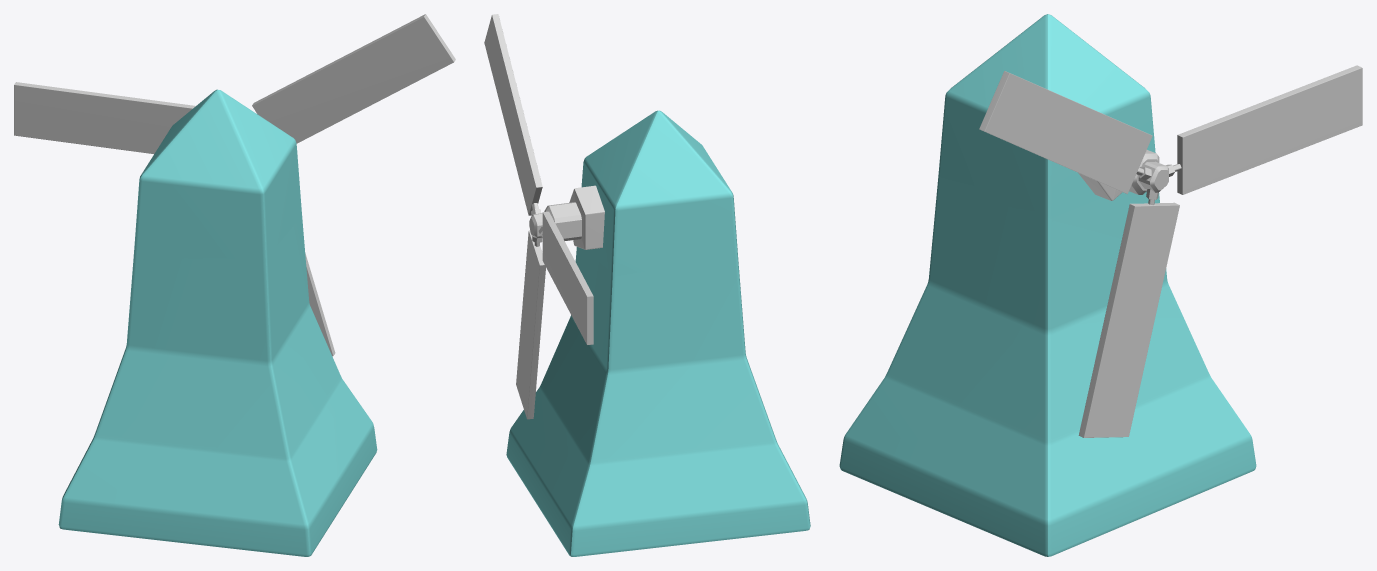
Rendered from wind.fbx.
The picture shows the model from 3 angles, left to right: view 1: azimuth 30°, elevation 25°; view 2: azimuth 150°, elevation 25°; view 3: azimuth 270°, elevation 25°; orthographic projection. The views are drawn at different scales.
Parts seen in each view (by area): view 1: pCylinder1, pCube1, pCube2, pCube3; view 2: pCylinder1, pCube1, pCube3, pCube2, pCylinder2, pCylinder3; view 3: pCylinder1, pCube3, pCube2, pCube1, pCylinder7.
Part boxes in pixels (x1,y1,x2,y2): pCylinder1: (58,89,377,556); pCube1: (252,14,455,143); pCube2: (14,82,195,153); pCube3: (305,253,335,356); pCylinder1: (506,110,810,556); pCube1: (484,14,542,215); pCube3: (516,230,545,419); pCube2: (542,211,593,344); pCylinder2: (569,185,604,249); pCylinder3: (544,202,581,240); pCylinder1: (839,14,1256,556); pCube3: (1078,202,1179,437); pCube2: (1177,65,1362,194); pCube1: (979,71,1152,194); pCylinder7: (1138,161,1168,192).
Bounding box in the file's own units: 8.01 × 9.19 × 8.65.
